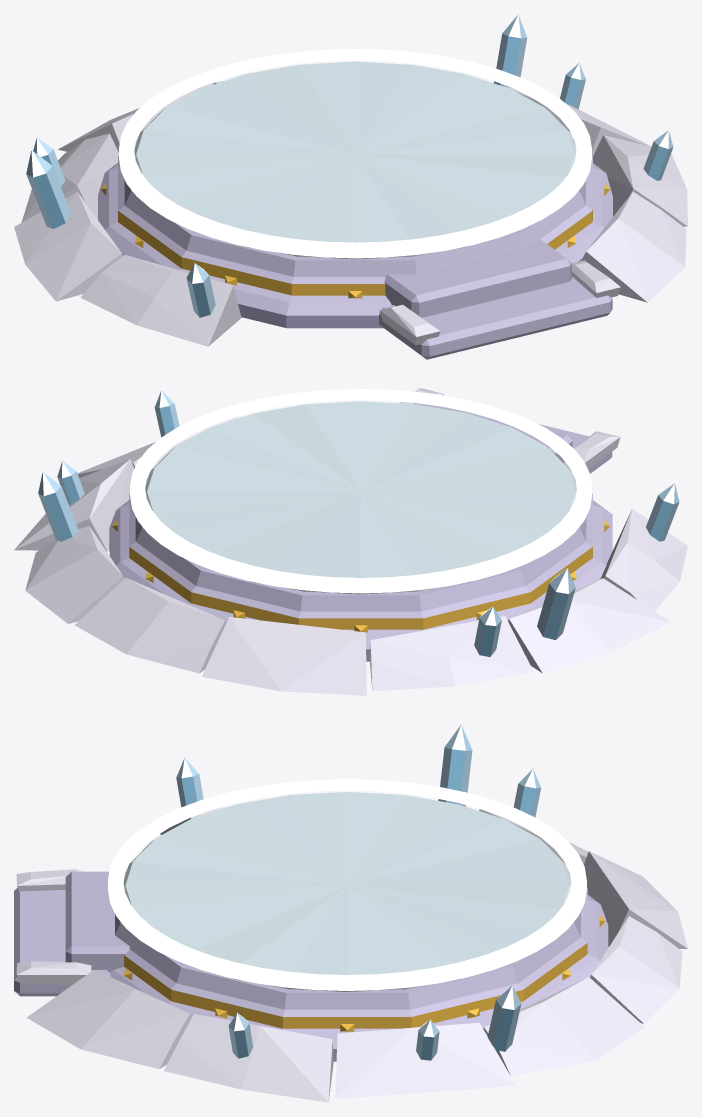
File: ws-podium.glb
The picture shows the model from 3 angles, top to bottom: view 1: azimuth 30°, elevation 25°; view 2: azimuth 150°, elevation 25°; view 3: azimuth 270°, elevation 25°; orthographic projection. The views are drawn at different scales.
Visible parts, largest first — view 1: Podium, PodiumTop, PodiumRing; view 2: Podium, PodiumTop, PodiumRing; view 3: Podium, PodiumTop, PodiumRing.
Boxes of the visible parts, x1,y1,x2,y2 form: Podium: (14,14,687,359); PodiumTop: (134,61,576,259); PodiumRing: (119,49,591,258); Podium: (14,388,687,695); PodiumTop: (145,401,576,594); PodiumRing: (130,389,591,593); Podium: (14,724,687,1102); PodiumTop: (123,791,570,991); PodiumRing: (108,779,586,990).
Bounding box in the file's own units: 3.06 × 0.4464 × 2.87.
